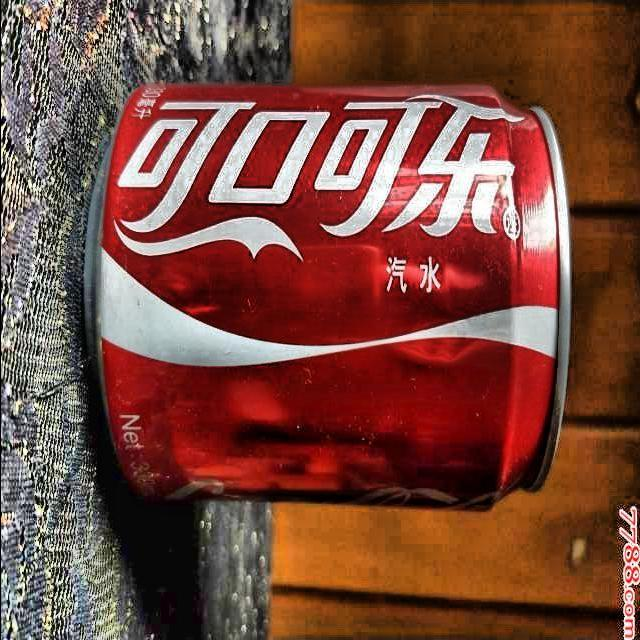Aluminum Can: (72, 74, 569, 512)
